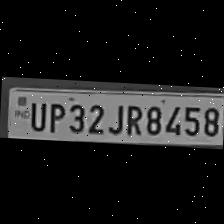2: (84, 98, 106, 134)
3: (64, 97, 86, 132)
4: (162, 100, 182, 136)
5: (179, 100, 201, 136)
8: (141, 100, 163, 134), (200, 102, 220, 136)
J: (105, 98, 124, 134)
P: (44, 97, 66, 132)
R: (120, 99, 144, 135)
U: (26, 97, 46, 131)
